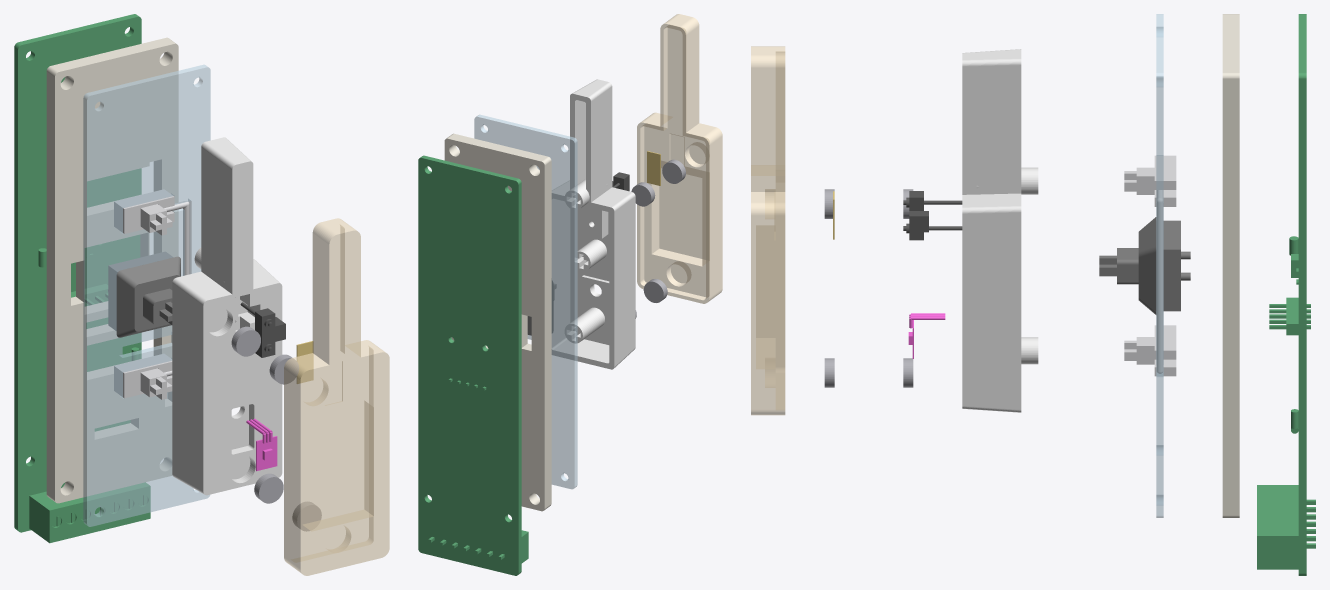
The model's file is stack_exploded.glb.
3 renders of one model, left to right at view 1: azimuth 30°, elevation 25°; view 2: azimuth 150°, elevation 25°; view 3: azimuth 270°, elevation 25°, orthographic. The views are drawn at different scales.
Parts seen in each view (by area): view 1: 2_foam, 3_acrylic_plate, 5_topper, 1_pcb, 4_key, 3b_stabilizer, 3a_switch, 4b_magnets_key, 5a_magnets_topper, 4c_pogo_connector, 4a_rgb_led_strip_piece, 5b_short_plate; view 2: 1_pcb, 4_key, 5_topper, 2_foam, 3_acrylic_plate, 5a_magnets_topper, 5b_short_plate, 4b_magnets_key; view 3: 4_key, 5_topper, 1_pcb, 2_foam, 3a_switch, 3b_stabilizer, 3_acrylic_plate, 4c_pogo_connector.
Part boxes in pixels (bbox=[...]): 2_foam: bbox=[46, 37, 178, 503]; 3_acrylic_plate: bbox=[83, 64, 210, 526]; 5_topper: bbox=[284, 218, 389, 575]; 1_pcb: bbox=[14, 14, 150, 543]; 4_key: bbox=[172, 137, 282, 495]; 3b_stabilizer: bbox=[114, 189, 189, 399]; 3a_switch: bbox=[108, 252, 180, 337]; 4b_magnets_key: bbox=[231, 326, 283, 503]; 5a_magnets_topper: bbox=[269, 354, 321, 531]; 4c_pogo_connector: bbox=[240, 302, 285, 357]; 4a_rgb_led_strip_piece: bbox=[246, 418, 277, 471]; 5b_short_plate: bbox=[296, 341, 313, 383]; 1_pcb: bbox=[418, 155, 528, 575]; 4_key: bbox=[552, 79, 635, 369]; 5_topper: bbox=[637, 14, 722, 303]; 2_foam: bbox=[444, 133, 551, 511]; 3_acrylic_plate: bbox=[474, 114, 577, 489]; 5a_magnets_topper: bbox=[643, 159, 685, 302]; 5b_short_plate: bbox=[647, 151, 660, 185]; 4b_magnets_key: bbox=[631, 182, 655, 318]; 4_key: bbox=[962, 49, 1038, 412]; 5_topper: bbox=[751, 46, 785, 415]; 1_pcb: bbox=[1257, 14, 1315, 575]; 2_foam: bbox=[1222, 14, 1239, 517]; 3a_switch: bbox=[1099, 217, 1190, 314]; 3b_stabilizer: bbox=[1124, 155, 1176, 376]; 3_acrylic_plate: bbox=[1156, 14, 1163, 517]; 4c_pogo_connector: bbox=[903, 191, 962, 240].
Bounding box in the file's own units: 30 × 113 × 115.
